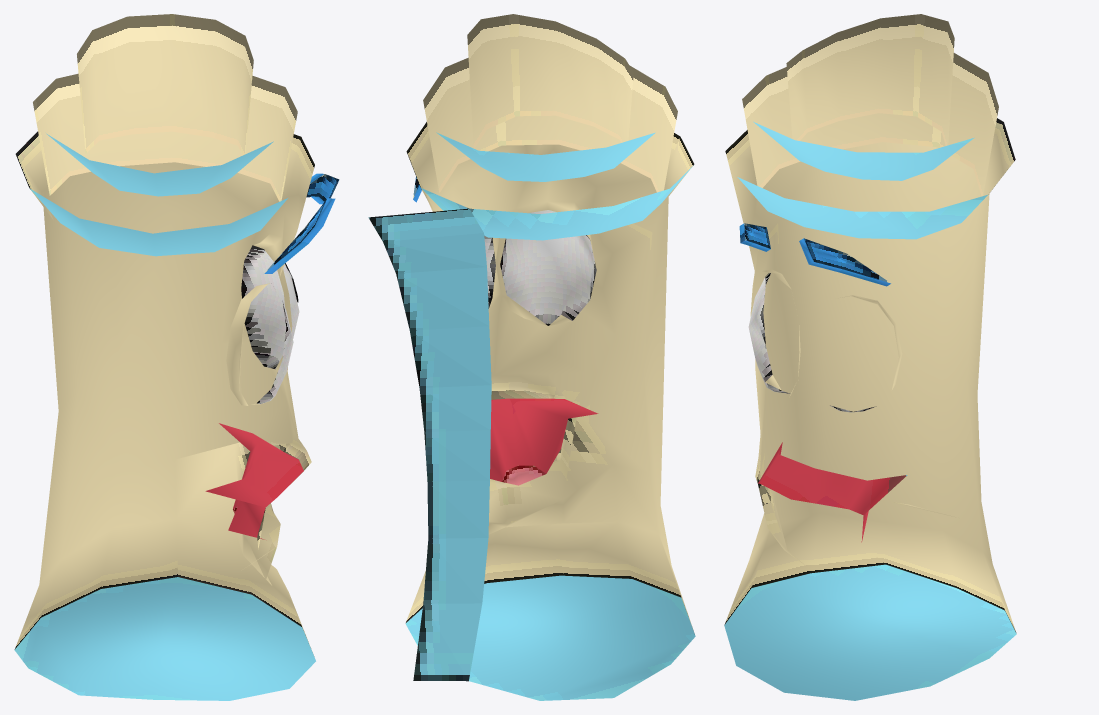
File: ps2_save-icons_doratheexplorerjourneytothepurpleplanet.glb
3 renders of one model, left to right at view 1: azimuth 30°, elevation 25°; view 2: azimuth 150°, elevation 25°; view 3: azimuth 270°, elevation 25°, orthographic.
Visible parts, largest first — view 1: icon.ico; view 2: icon.ico; view 3: icon.ico.
Boxes of the visible parts, x1,y1,x2,y2 form: icon.ico: [14, 14, 339, 700]; icon.ico: [368, 14, 695, 700]; icon.ico: [724, 14, 1016, 700].
Bounding box in the file's own units: 1.91 × 4.03 × 2.18.
Materials: 1 (1 with a texture image).
